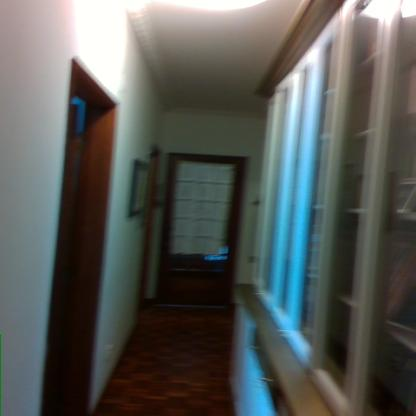closed: (152, 151, 256, 318)
